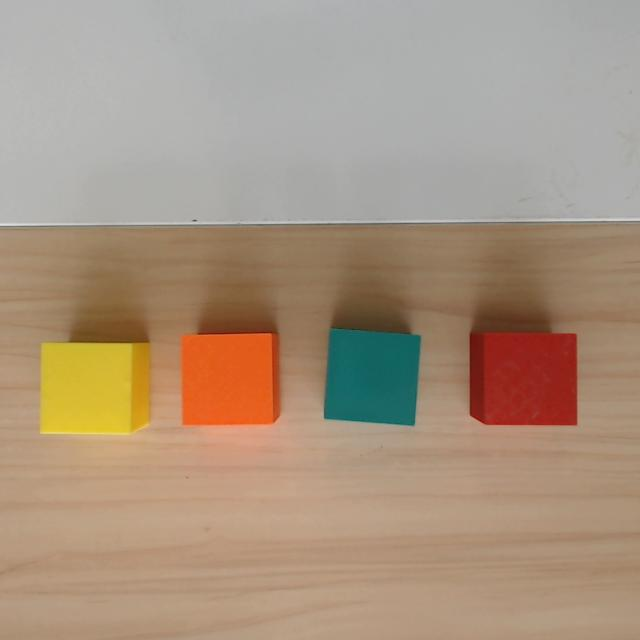Kubus-Hijau-505050: (324, 328, 421, 426)
Kubus-Jingga-505050: (181, 332, 280, 426)
Kubus-Kuning-505050: (41, 343, 149, 434)
Kubus-Merah-505050: (470, 333, 577, 425)
